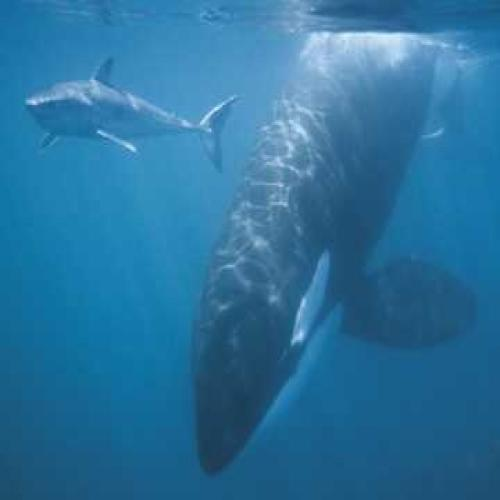killer_whale-endangered: (179, 20, 479, 480)
